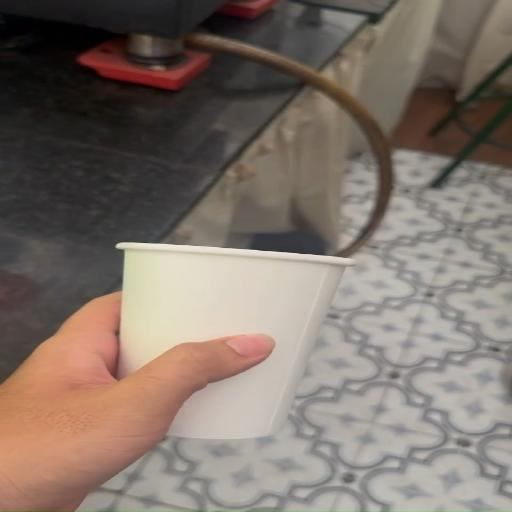Ly_giay: (116, 242, 354, 439)
